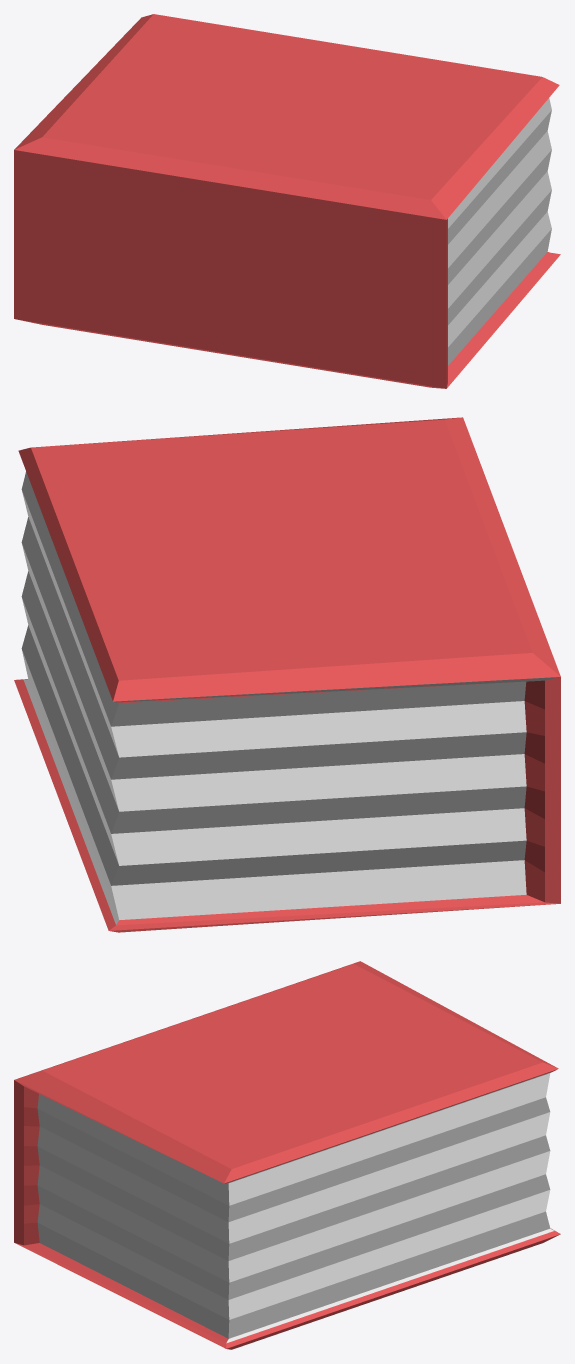
File: book1.fbx
The picture shows the model from 3 angles, top to bottom: view 1: azimuth 30°, elevation 25°; view 2: azimuth 150°, elevation 25°; view 3: azimuth 270°, elevation 25°; orthographic projection. The views are drawn at different scales.
Parts seen in each view (by area): view 1: Cube.001; view 2: Cube.001; view 3: Cube.001.
Part boxes in pixels (x1=…): Cube.001: x1=14, y1=14, x2=560, y2=388; Cube.001: x1=14, y1=417, x2=560, y2=932; Cube.001: x1=14, y1=961, x2=560, y2=1349.
Bounding box in the file's own units: 24.17 × 9.08 × 24.91.
